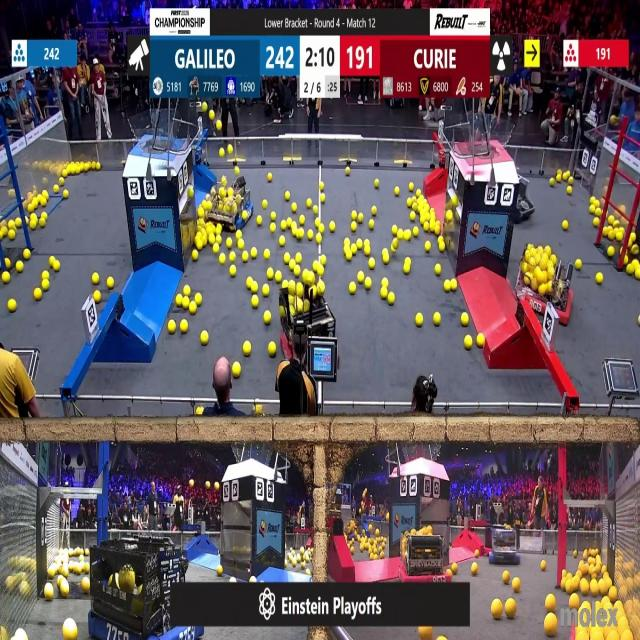ball_airborne: (216, 119, 222, 130), (209, 110, 215, 119), (203, 102, 209, 111), (215, 482, 220, 490), (227, 145, 232, 153), (219, 148, 224, 156)
ball_ground: (63, 621, 77, 640), (544, 616, 556, 637), (492, 600, 502, 620), (504, 600, 514, 619), (544, 595, 554, 612), (60, 583, 70, 599), (44, 586, 53, 602), (578, 581, 588, 595), (590, 581, 599, 596), (304, 271, 314, 284), (82, 579, 90, 595), (244, 342, 252, 357), (570, 594, 578, 609), (234, 362, 242, 376), (514, 577, 522, 591), (269, 343, 277, 357), (608, 588, 616, 602), (202, 333, 210, 346), (478, 336, 486, 349), (433, 312, 440, 326), (416, 313, 423, 327), (7, 300, 15, 312), (2, 272, 10, 284), (464, 338, 472, 350), (169, 321, 176, 334), (265, 312, 272, 325), (180, 320, 187, 333), (181, 295, 189, 306), (616, 231, 624, 242), (47, 567, 55, 578), (35, 288, 42, 300), (15, 262, 22, 274), (470, 563, 477, 575), (388, 292, 395, 304), (445, 280, 452, 292), (461, 314, 468, 326), (95, 290, 102, 302), (364, 278, 371, 290), (357, 272, 364, 284), (251, 282, 258, 294), (381, 287, 388, 299), (197, 237, 204, 249), (317, 282, 324, 294), (296, 283, 302, 297), (626, 266, 634, 276), (448, 565, 456, 575), (356, 213, 364, 223), (452, 196, 458, 209), (193, 293, 200, 304), (24, 249, 31, 260), (107, 278, 114, 289), (596, 274, 603, 285), (363, 245, 370, 256), (93, 274, 100, 285), (30, 219, 37, 230), (356, 241, 363, 252), (82, 563, 89, 574), (252, 295, 258, 307), (264, 284, 270, 296), (265, 248, 271, 260), (176, 294, 182, 306), (502, 571, 508, 583), (250, 248, 257, 258), (254, 406, 261, 416), (188, 304, 195, 314), (238, 240, 245, 250), (367, 258, 374, 268), (54, 263, 61, 273), (230, 252, 237, 262), (296, 230, 303, 240), (195, 408, 202, 418), (293, 268, 300, 278), (208, 235, 215, 245), (408, 200, 415, 210), (83, 161, 90, 171), (269, 270, 275, 281), (403, 264, 409, 275), (452, 280, 458, 291), (276, 272, 282, 283), (42, 280, 48, 291), (574, 261, 580, 272), (316, 233, 322, 244), (243, 251, 249, 262), (383, 252, 389, 263), (350, 283, 356, 294), (392, 224, 398, 235), (425, 242, 431, 253), (231, 267, 237, 278), (191, 250, 197, 261), (314, 263, 320, 274), (246, 278, 252, 289), (429, 209, 435, 220), (593, 217, 600, 226), (212, 245, 219, 254), (329, 221, 335, 231), (183, 285, 189, 295), (434, 266, 440, 276), (294, 253, 300, 263), (607, 247, 613, 257), (217, 565, 223, 575), (308, 231, 314, 241), (219, 254, 225, 264), (226, 239, 232, 249), (279, 237, 285, 247), (320, 255, 326, 265), (271, 222, 277, 232), (403, 231, 409, 241), (284, 190, 290, 200), (440, 243, 446, 253), (315, 217, 321, 227), (8, 231, 14, 241), (264, 200, 270, 210), (434, 224, 440, 234), (14, 218, 20, 228), (40, 218, 46, 228), (447, 211, 453, 221), (48, 256, 54, 266), (414, 228, 420, 238), (199, 208, 205, 218), (4, 258, 10, 268), (188, 187, 194, 197), (351, 211, 357, 221), (602, 226, 608, 236), (42, 272, 49, 280), (589, 206, 596, 214), (420, 214, 427, 222), (632, 259, 639, 267), (284, 253, 290, 262), (562, 220, 568, 229), (370, 207, 376, 216), (256, 216, 262, 225), (351, 221, 357, 230), (307, 199, 313, 208), (394, 186, 400, 195), (271, 212, 277, 221), (540, 561, 546, 570), (392, 239, 398, 248), (291, 229, 297, 238), (215, 237, 221, 246), (286, 217, 292, 226), (595, 207, 601, 216), (608, 216, 614, 225), (630, 234, 636, 243), (562, 172, 568, 181), (203, 202, 209, 211), (75, 166, 81, 175), (368, 219, 373, 229), (347, 251, 352, 261), (320, 192, 325, 202), (608, 231, 613, 241), (0, 230, 5, 240), (298, 216, 304, 224), (237, 232, 243, 240), (566, 186, 572, 194), (250, 575, 256, 583), (382, 279, 388, 287), (313, 207, 319, 215), (216, 224, 222, 232), (280, 307, 284, 319), (96, 164, 102, 172), (40, 199, 46, 207), (55, 184, 61, 192), (567, 176, 573, 184), (390, 246, 396, 254), (556, 175, 562, 183), (594, 199, 600, 207), (40, 212, 46, 220), (63, 170, 69, 178), (64, 189, 69, 198), (269, 173, 274, 182), (411, 212, 416, 221), (281, 220, 286, 229), (424, 222, 429, 231), (373, 182, 378, 191), (319, 223, 324, 232), (319, 182, 324, 191), (282, 281, 288, 288), (231, 576, 237, 583), (380, 553, 386, 560), (352, 245, 356, 255), (346, 168, 351, 176), (345, 239, 350, 247), (551, 180, 556, 188), (292, 203, 296, 213), (291, 560, 296, 568), (440, 236, 445, 244), (636, 270, 640, 279), (289, 264, 294, 271), (307, 568, 311, 576), (410, 182, 414, 190), (61, 177, 65, 185), (562, 568, 566, 576), (236, 168, 240, 175), (625, 256, 629, 263), (417, 188, 421, 195), (474, 551, 478, 557)
goal: (461, 119, 516, 158), (129, 115, 186, 152)
robot_blue: (90, 536, 196, 638), (208, 178, 254, 231), (489, 521, 521, 564)
robot_red: (278, 287, 337, 369), (515, 245, 573, 322), (402, 528, 449, 585)
